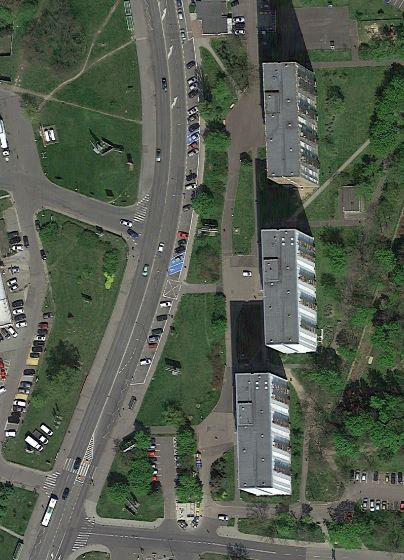block of flats: (253, 219, 328, 359), (228, 367, 299, 508), (256, 52, 323, 189)
